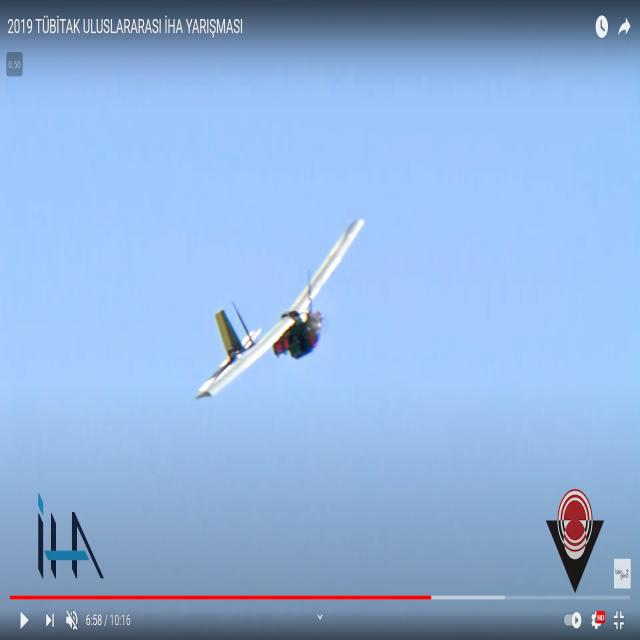iha: (195, 216, 366, 404)
